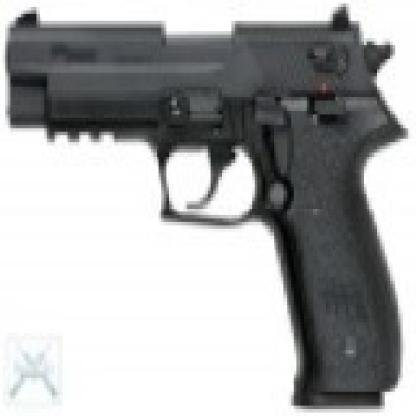handgun: (3, 0, 403, 409)
